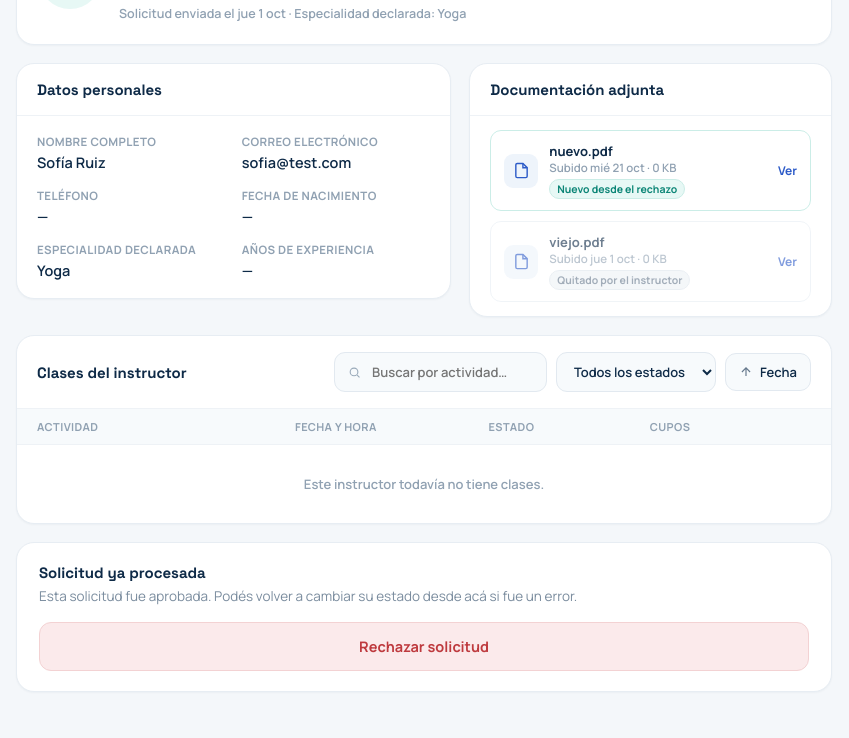
Test: validar instructor › en una solicitud aprobada, 'Rechazar solicitud' abre el formulario (antes no hacía nada)
(page scrolled)
Step 1. Click the button "Rechazar solicitud" → x=424, y=647, box [39,622,809,671]
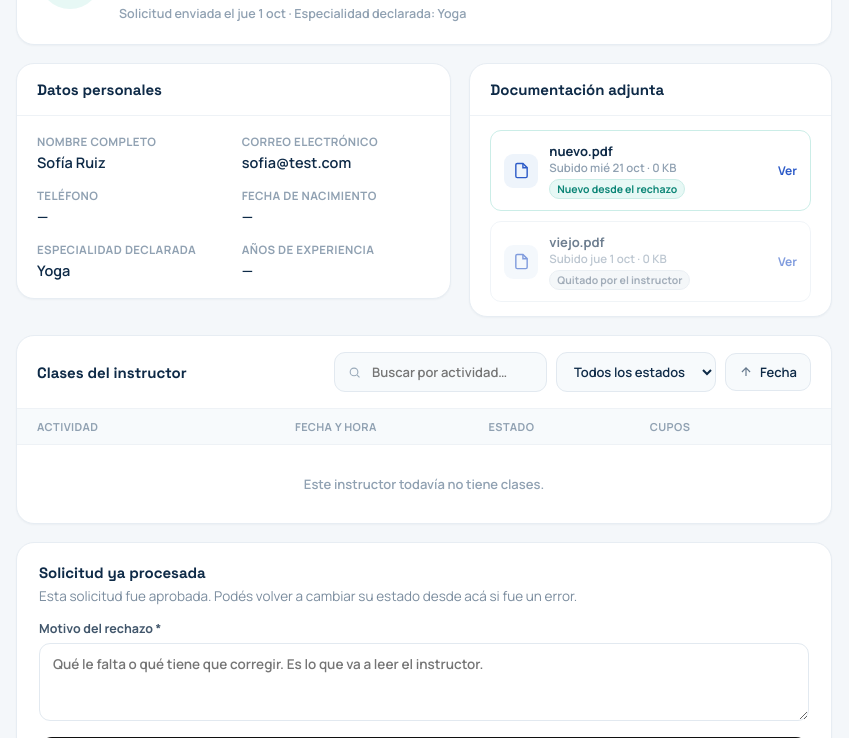
Expected: the text box labelled "Motivo del rechazo *" is shown, [39,643,809,721]
